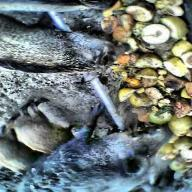boar: (31, 110, 188, 192), (0, 16, 132, 101)
